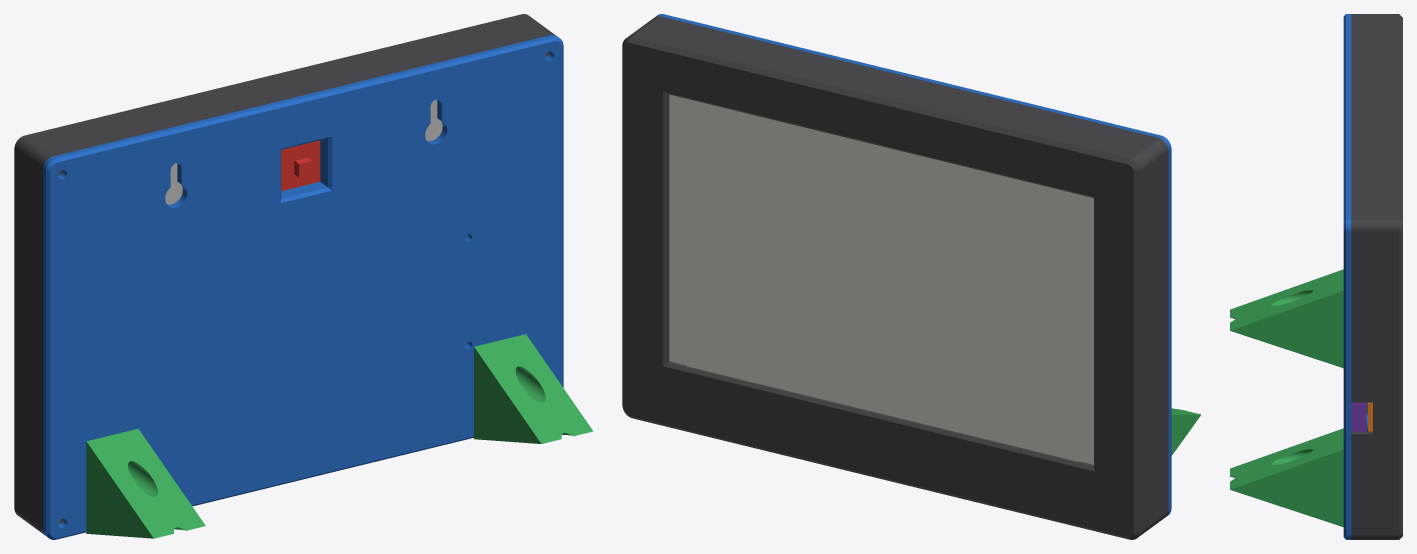
The model's file is assembly.obj.
3 views of the same model, side by side, from view 1: azimuth 30°, elevation 25°; view 2: azimuth 150°, elevation 25°; view 3: azimuth 270°, elevation 25° (orthographic). The views are drawn at different scales.
Parts seen in each view (by area): view 1: back_cover, frame, foot_1, foot_2, ref_key_switch, backer; view 2: ref_panel, frame, back_cover, foot_1; view 3: frame, foot_2, foot_1, back_cover, ref_esp32.
Boxes of the visible parts, left/top/right/bottom form: back_cover: left=43, top=35, right=563, bottom=539; frame: left=14, top=14, right=555, bottom=534; foot_1: left=86, top=428, right=205, bottom=538; foot_2: left=474, top=334, right=593, bottom=443; ref_key_switch: left=281, top=140, right=320, bottom=190; backer: left=165, top=99, right=442, bottom=204; ref_panel: left=669, top=94, right=1093, bottom=464; frame: left=622, top=16, right=1168, bottom=539; back_cover: left=656, top=14, right=1171, bottom=516; foot_1: left=1171, top=408, right=1201, bottom=455; frame: left=1351, top=14, right=1402, bottom=539; foot_2: left=1230, top=428, right=1343, bottom=527; foot_1: left=1230, top=269, right=1343, bottom=368; back_cover: left=1343, top=14, right=1367, bottom=539; ref_esp32: left=1351, top=402, right=1366, bottom=431.
Size of the model in its own units: 199 by 140 by 68.5.
